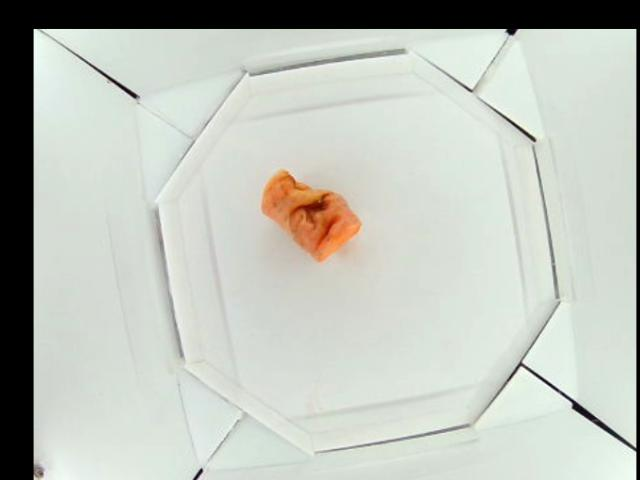Carrot: (260, 170, 359, 263)
